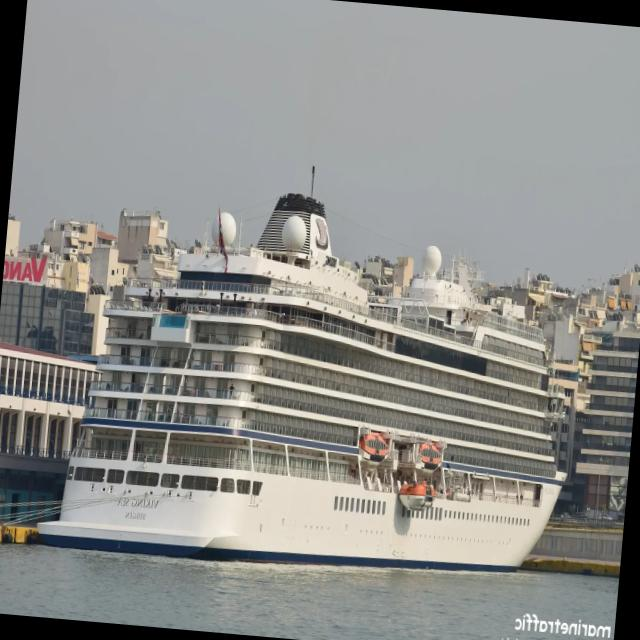Cruise: (39, 193, 566, 571)
